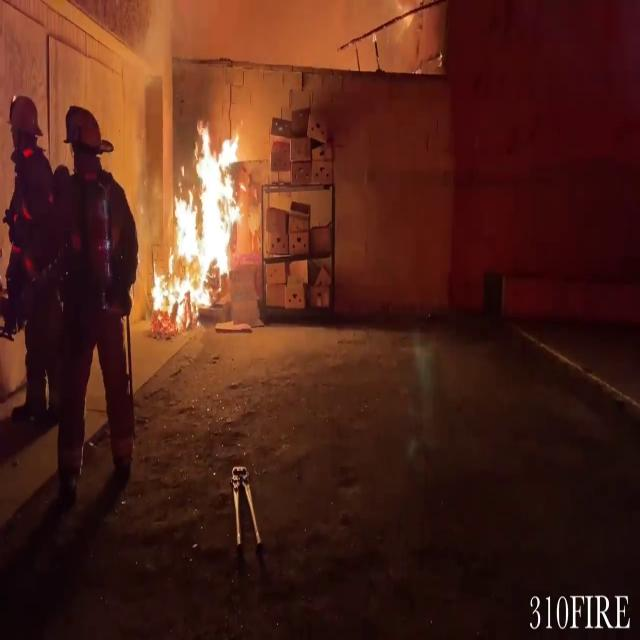Fire: (153, 111, 249, 323)
